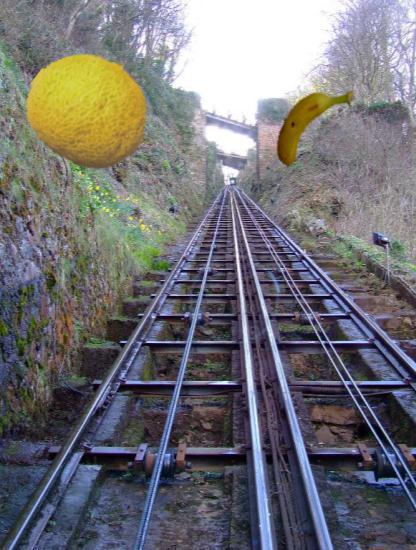Banana: (261, 73, 363, 175)
Cantaloupe: (27, 47, 151, 171)
